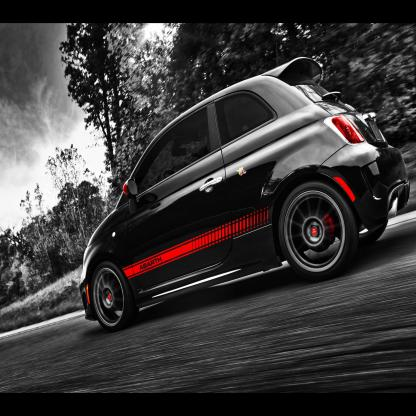Vehicle: (79, 52, 411, 342)
